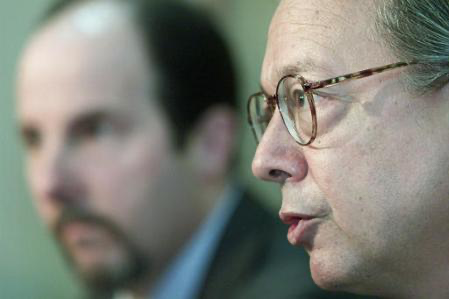Face: (232, 45, 429, 289), (9, 53, 203, 286)
